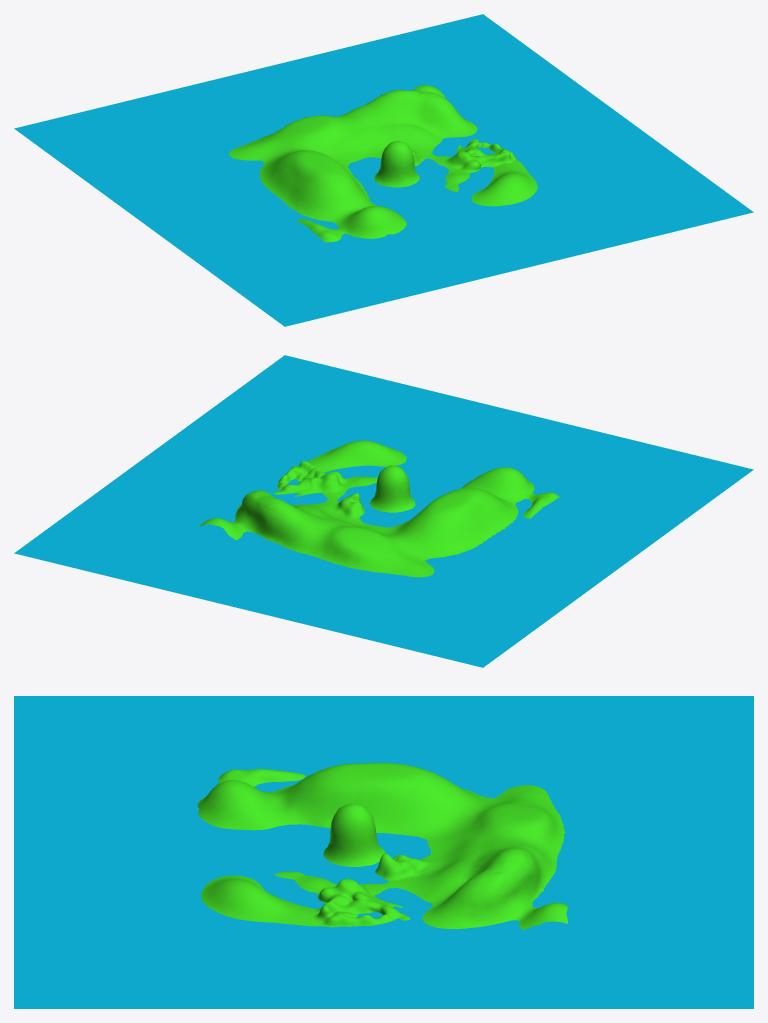
The model's file is map_test1.glb.
3 renders of one model, top to bottom at view 1: azimuth 30°, elevation 25°; view 2: azimuth 150°, elevation 25°; view 3: azimuth 270°, elevation 25°, orthographic. The views are drawn at different scales.
Parts seen in each view (by area): view 1: Plane.001, Plane -col; view 2: Plane.001, Plane -col; view 3: Plane.001, Plane -col.
Boxes of the visible parts, x1,y1,x2,y2 form: Plane.001: (14, 14, 753, 326); Plane -col: (229, 85, 537, 242); Plane.001: (14, 355, 753, 667); Plane -col: (199, 440, 559, 577); Plane.001: (14, 696, 753, 1008); Plane -col: (197, 763, 568, 929).
Size of the model in its own units: 2000 by 217 by 2000.
